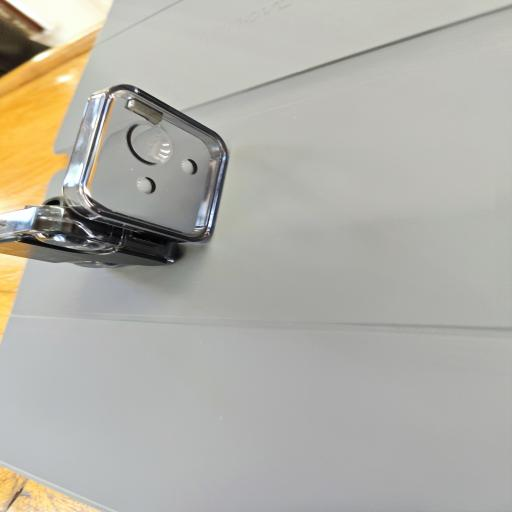Headphones: (1, 82, 234, 268)
